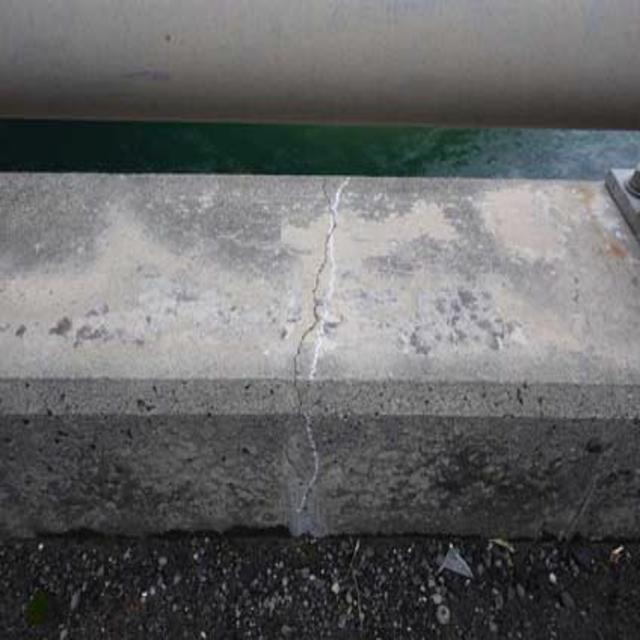crack: (293, 160, 344, 531)
